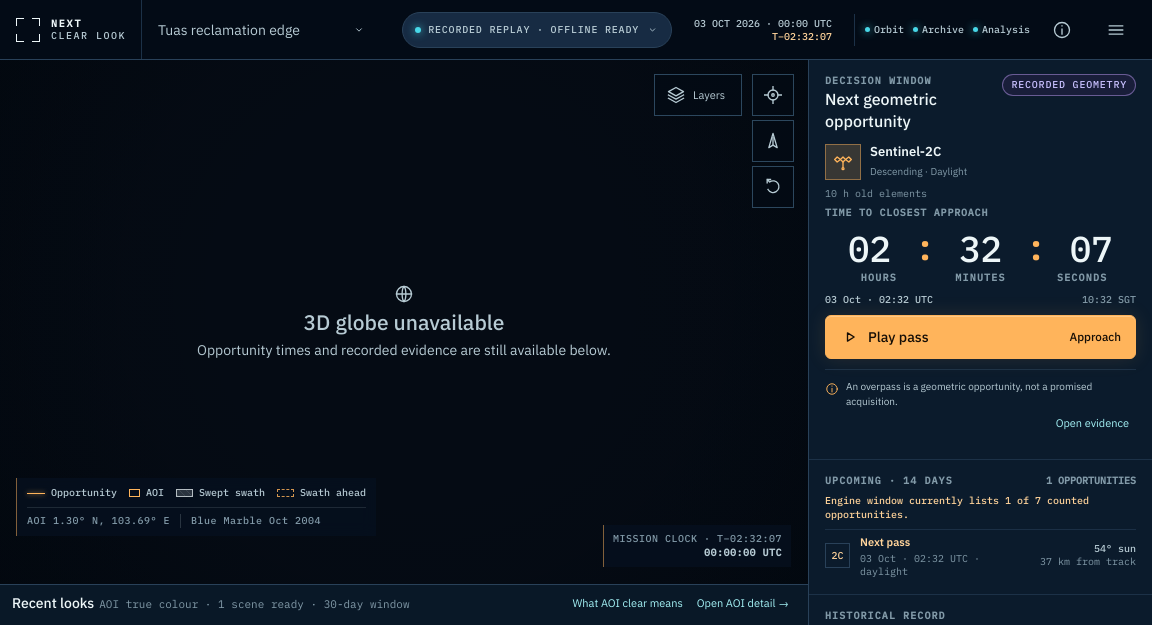
Scenario: Next Clear Look › offers all five AOI presets and a keyboard path into real globe drawing
Expected: the heading "Next geometric opportunity" is shown, [825,89,937,131]
Click the button with test id "aoi-switcher": x=262, y=30 [152,8,372,52]
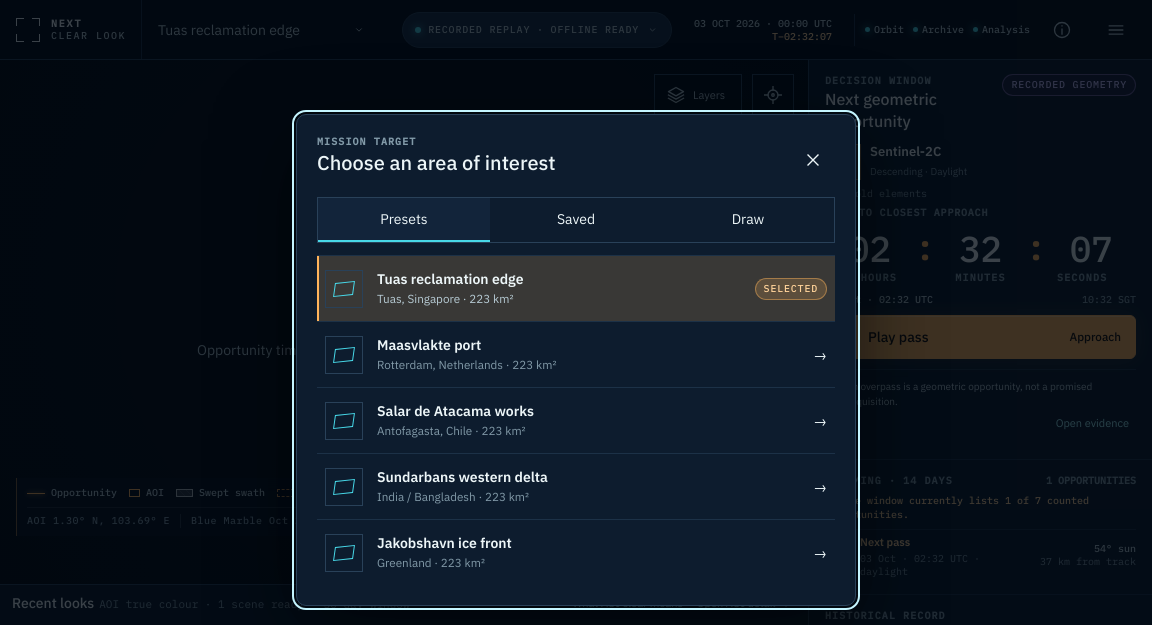
Expected: the number of buttons with test id "aoi-preset-row" is 5, [317,255,835,321]; [317,321,835,387]; [317,387,835,453]; [317,453,835,519]; [317,519,835,585]
Click the tab "Draw": x=748, y=220 [662,198,834,242]
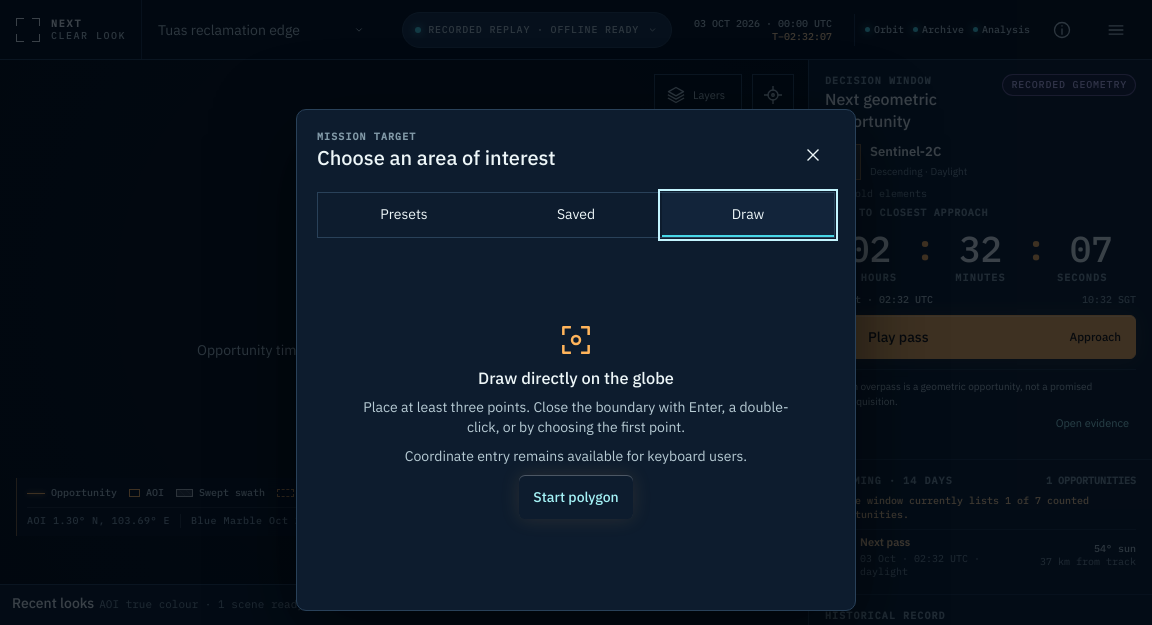
Click the button "Start polygon": x=576, y=497 [519,475,633,519]
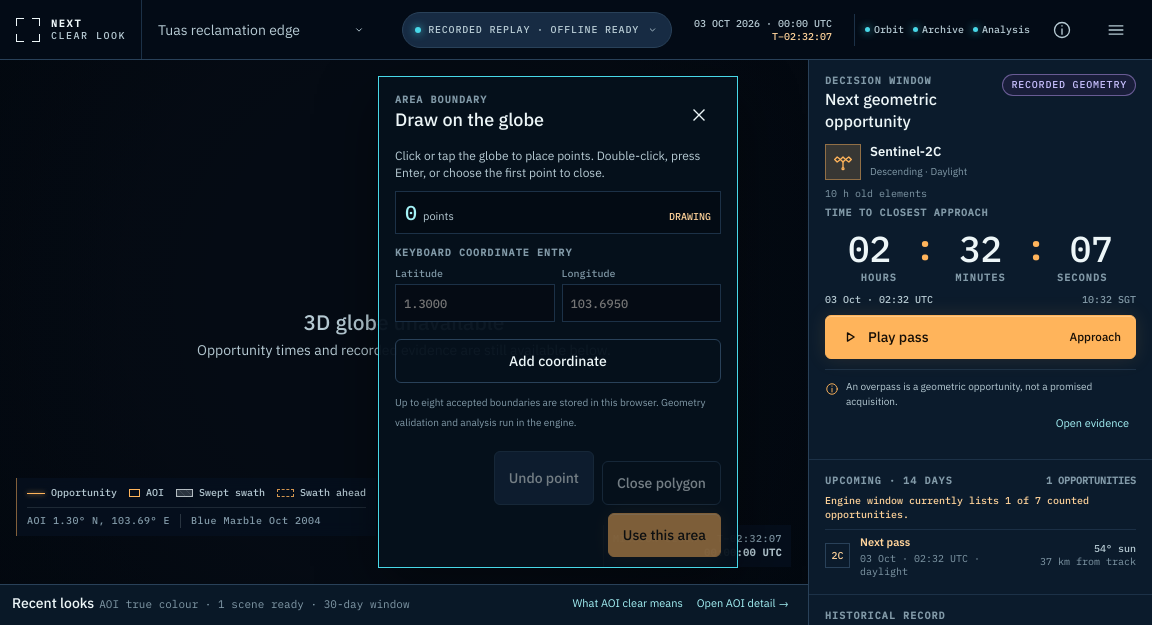
In the field labelled "Latitude": x=475, y=303 [395,284,554,322], type "91"
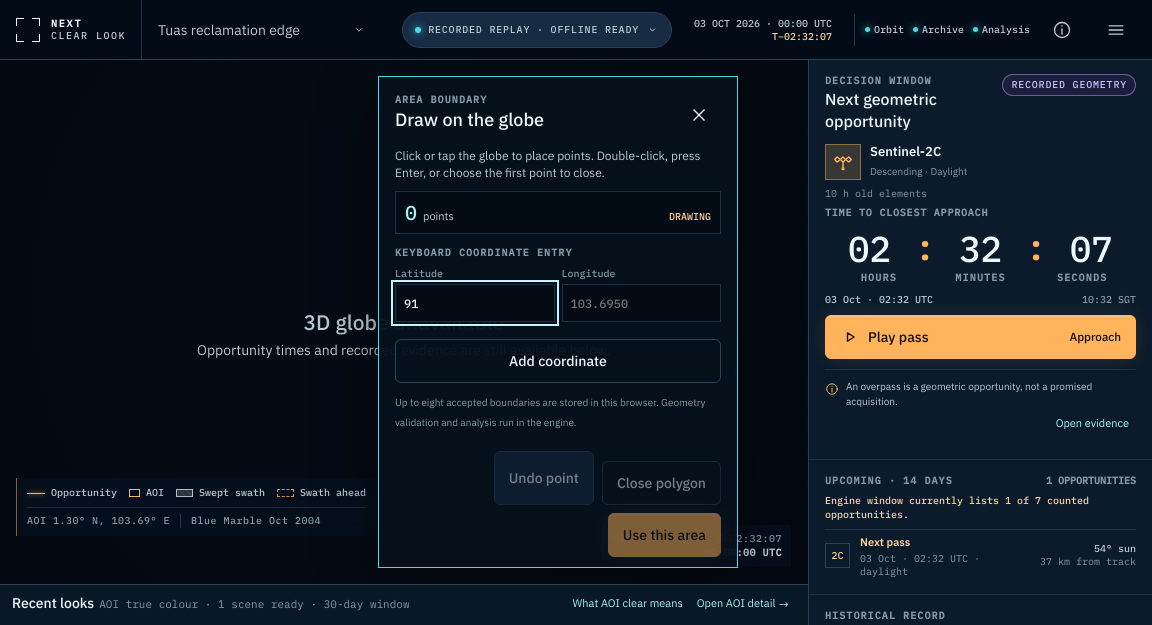
In the field labelled "Longitude": x=641, y=303 [562,284,721,322], type "103.7"
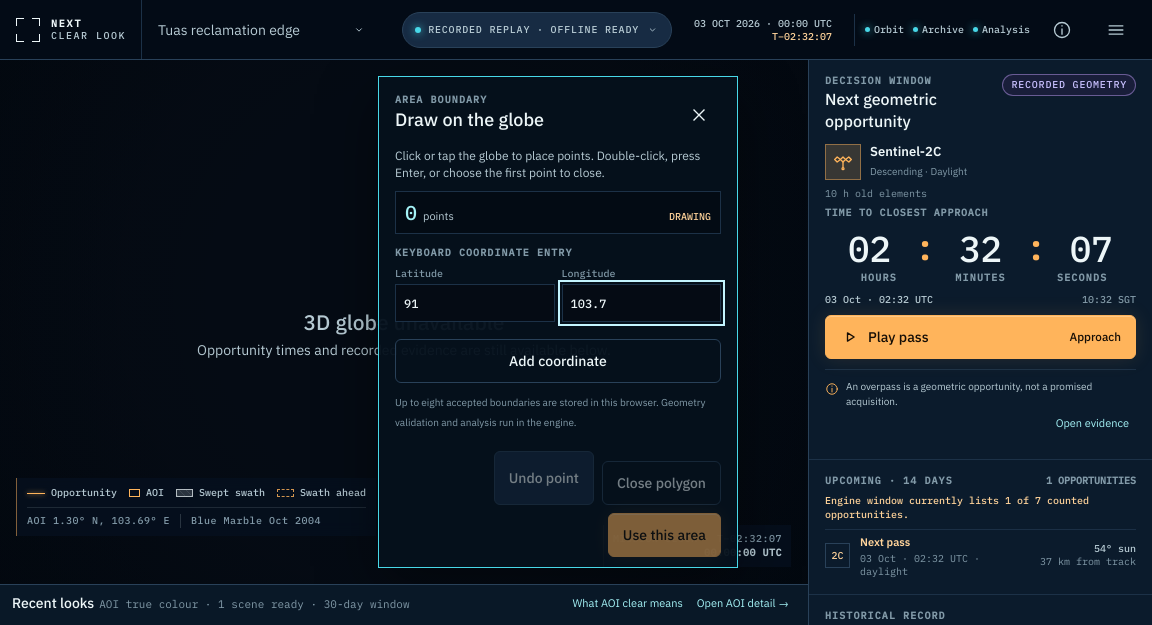
Click the button "Add coordinate": x=558, y=361 [395,339,721,383]
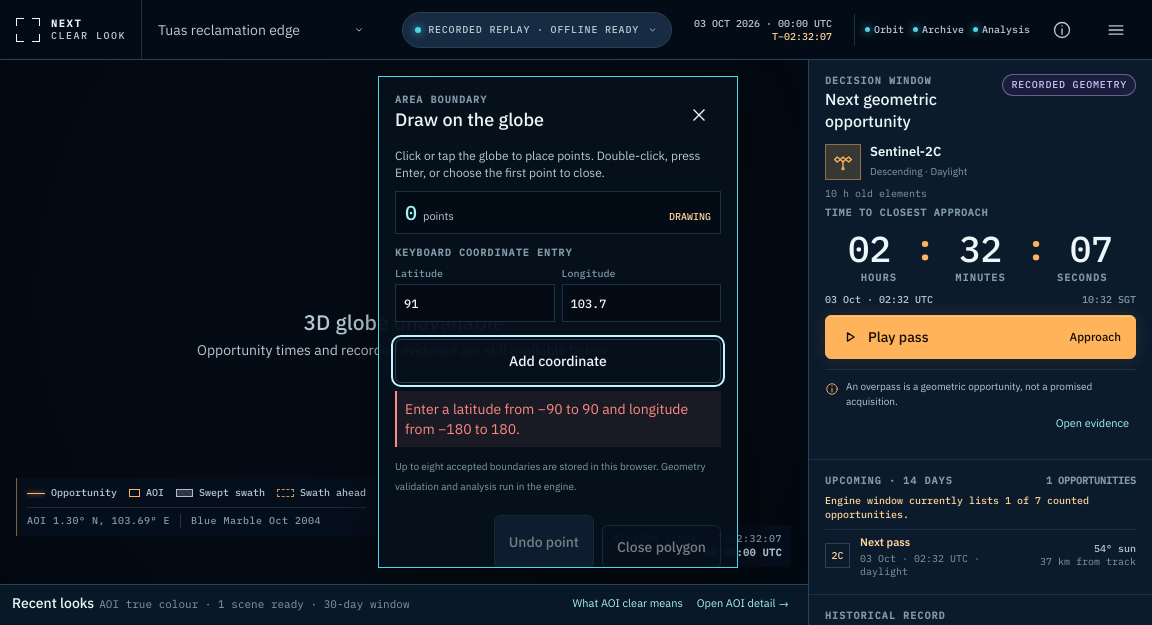
Expected: the text "Enter a latitude from −90 to 90 and longitude from −180 to 180." is shown, [395,391,721,447]
